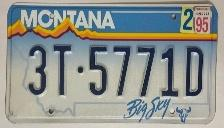1: (160, 43, 180, 98)
3: (28, 42, 49, 98)
5: (87, 43, 110, 98)
7: (110, 44, 133, 97), (134, 44, 156, 97)
D: (184, 43, 205, 99)
T: (52, 42, 73, 99)
